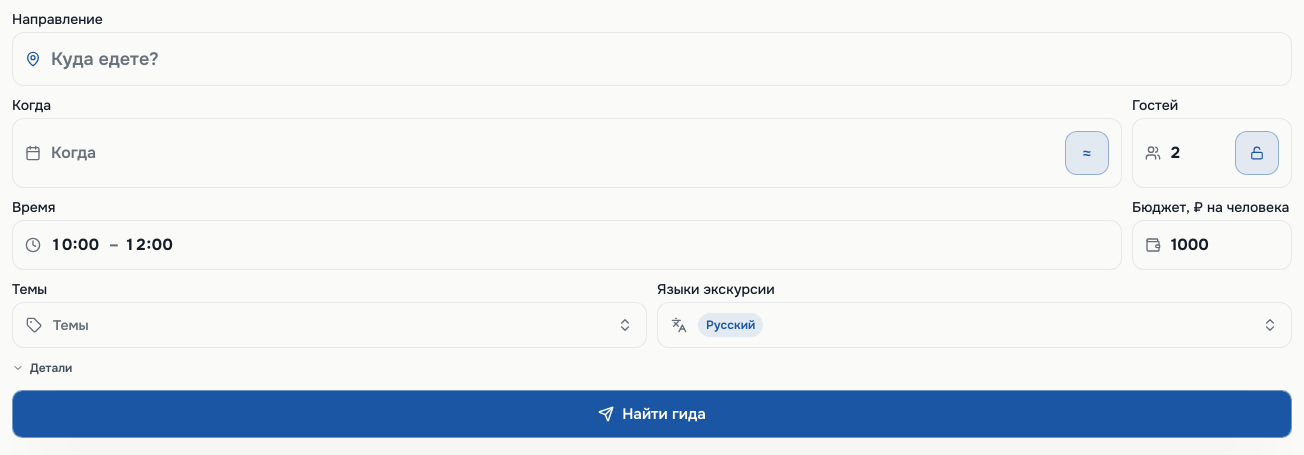
HomepageRequestFormClassic destination typeahead › moves the highlight with the arrow keys and picks it with Enter
The width and height of the screenshot is (1304, 455).
Step 1. Type "Ка" into the dropdown labelled "Направление" → coordinates (665, 59), box [51,45,1279,73]
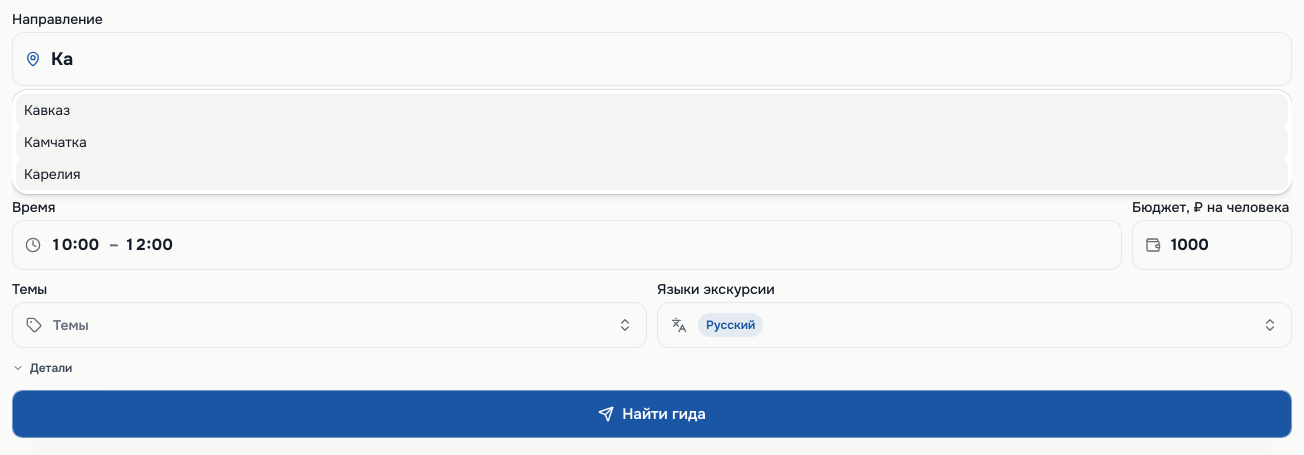
Check: the number of options is 3, box [16,94,1288,126]; [16,126,1288,158]; [16,158,1288,190]
Step 2. Press ArrowDown in the dropdown labelled "Направление", box [51,45,1279,73]
Step 3. Press ArrowDown in the dropdown labelled "Направление", box [51,45,1279,73]
Check: the option does not show "Камчатка"
Step 4. Press Enter in the dropdown labelled "Направление", box [51,45,1279,73]
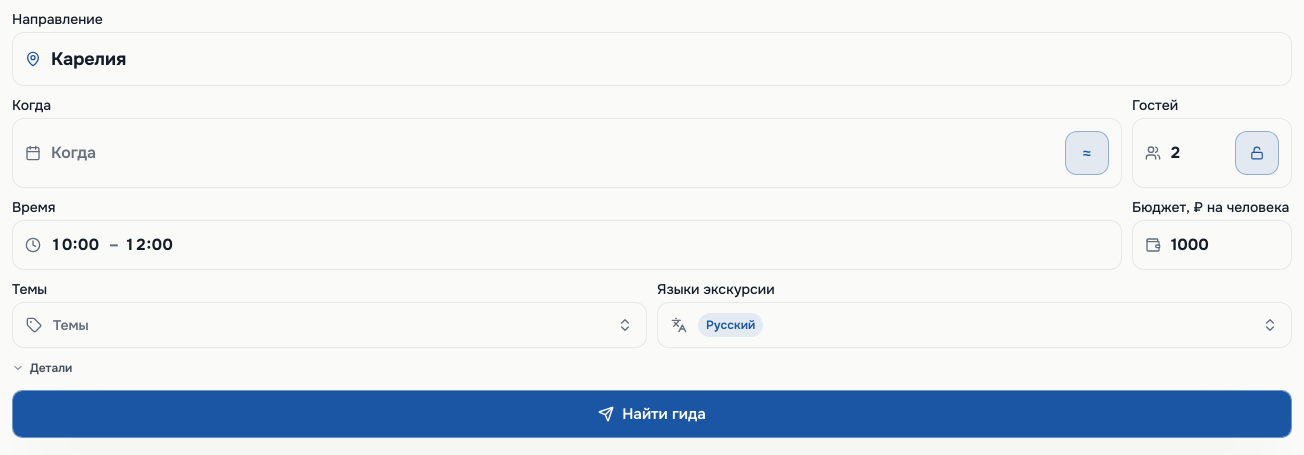
Check: the dropdown labelled "Направление" holds "Карелия", box [51,45,1279,73]
Check: the list is gone
